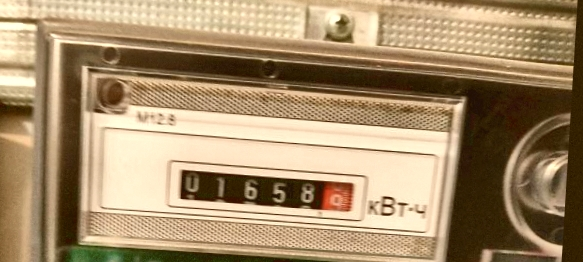0: (182, 171, 200, 193)
1: (212, 174, 227, 198)
5: (269, 179, 287, 204)
6: (241, 176, 260, 201)
8: (297, 181, 316, 204)
9: (326, 191, 343, 213)
screen: (162, 156, 371, 226)
